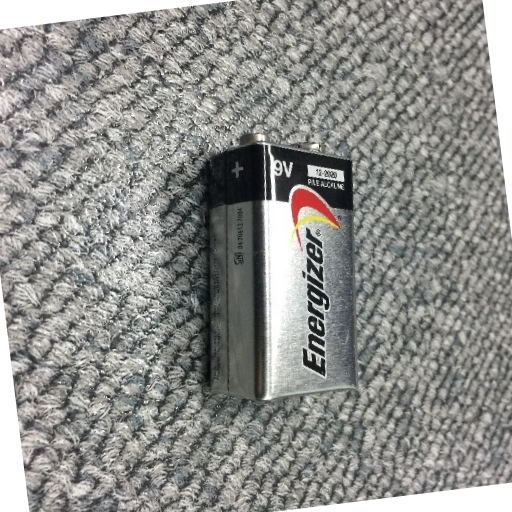Battery_3: (193, 122, 369, 416)
